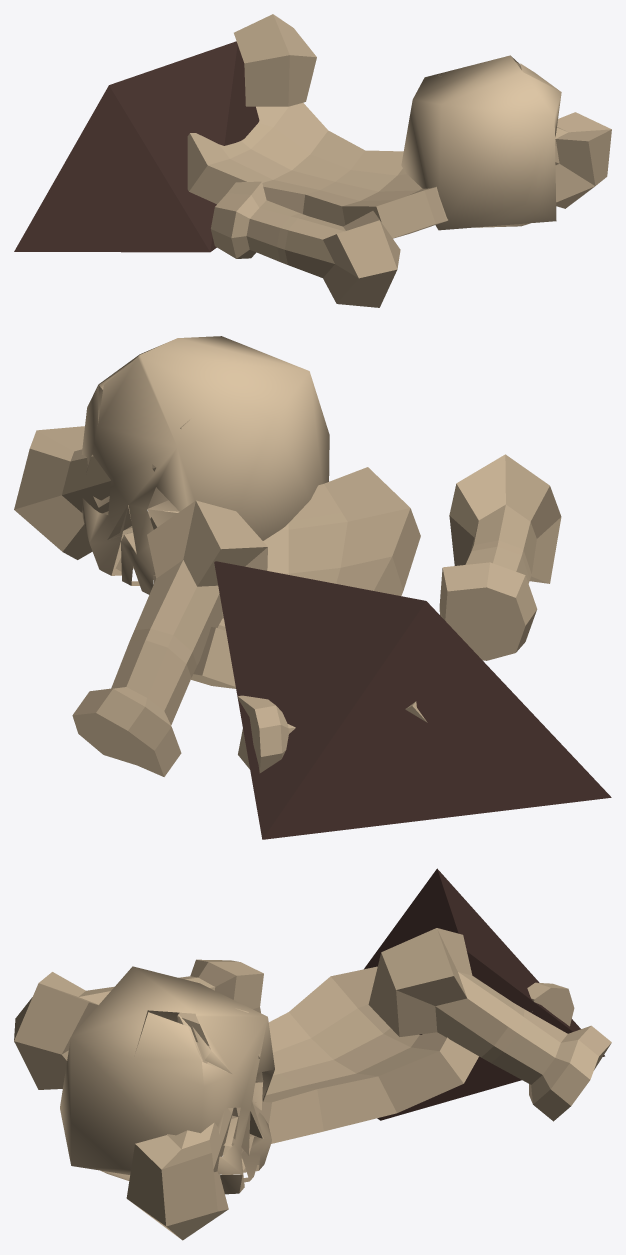
The model's file is decor_5.fbx.
The picture shows the model from 3 angles, top to bottom: view 1: azimuth 30°, elevation 25°; view 2: azimuth 150°, elevation 25°; view 3: azimuth 270°, elevation 25°; orthographic projection. The views are drawn at different scales.
Parts seen in each view (by area): view 1: decor_5; view 2: decor_5; view 3: decor_5.
Part boxes in pixels (<box>): decor_5: <box>14,14,611,307</box>; decor_5: <box>14,336,611,839</box>; decor_5: <box>14,868,611,1240</box>.
Bounding box in the file's own units: 1.21 × 0.3833 × 1.02.
